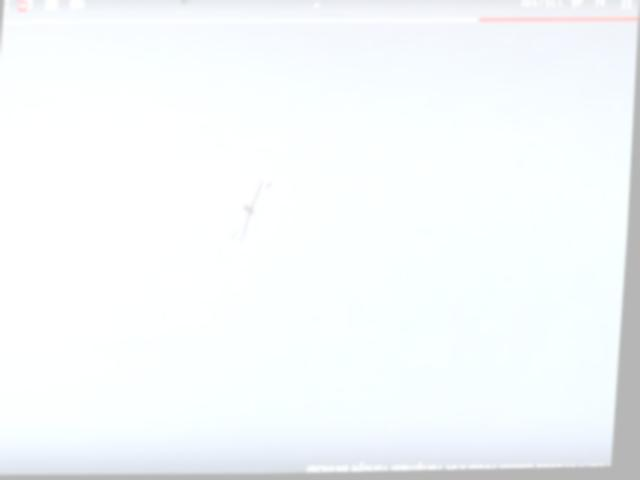insansiz-hava-araci: (231, 181, 277, 244)
